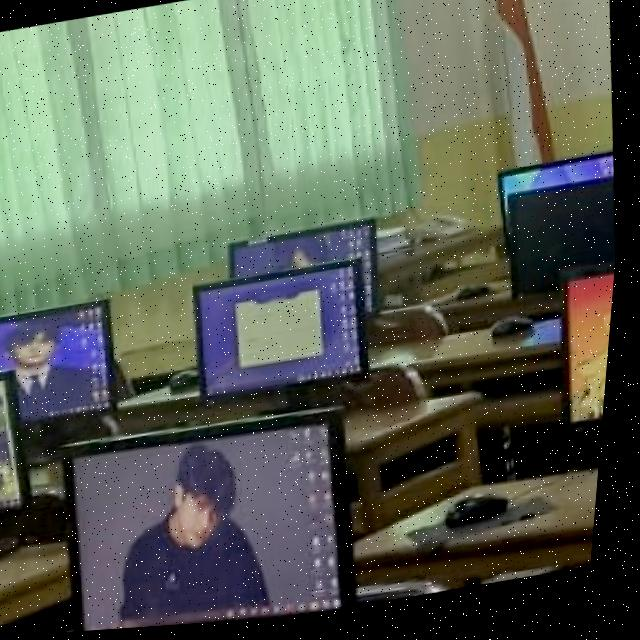offscreen: (514, 188, 620, 303)
onscreen: (77, 415, 364, 633), (199, 265, 370, 398), (0, 302, 121, 422), (232, 224, 383, 318), (574, 282, 620, 429), (503, 160, 616, 206), (0, 380, 28, 509)
